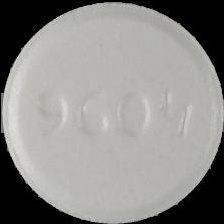50436-9022: (0, 0, 224, 224)
